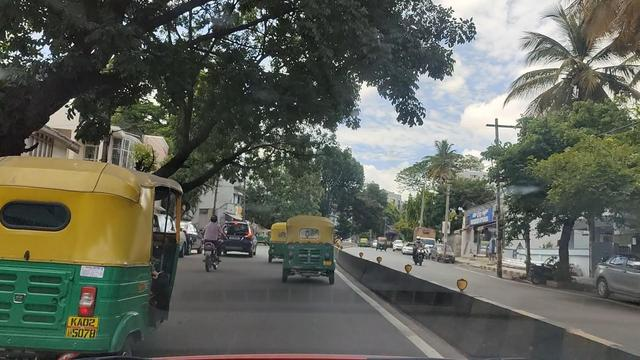LMV: (2, 153, 181, 353), (282, 216, 342, 279), (201, 209, 228, 280), (231, 219, 259, 259)
